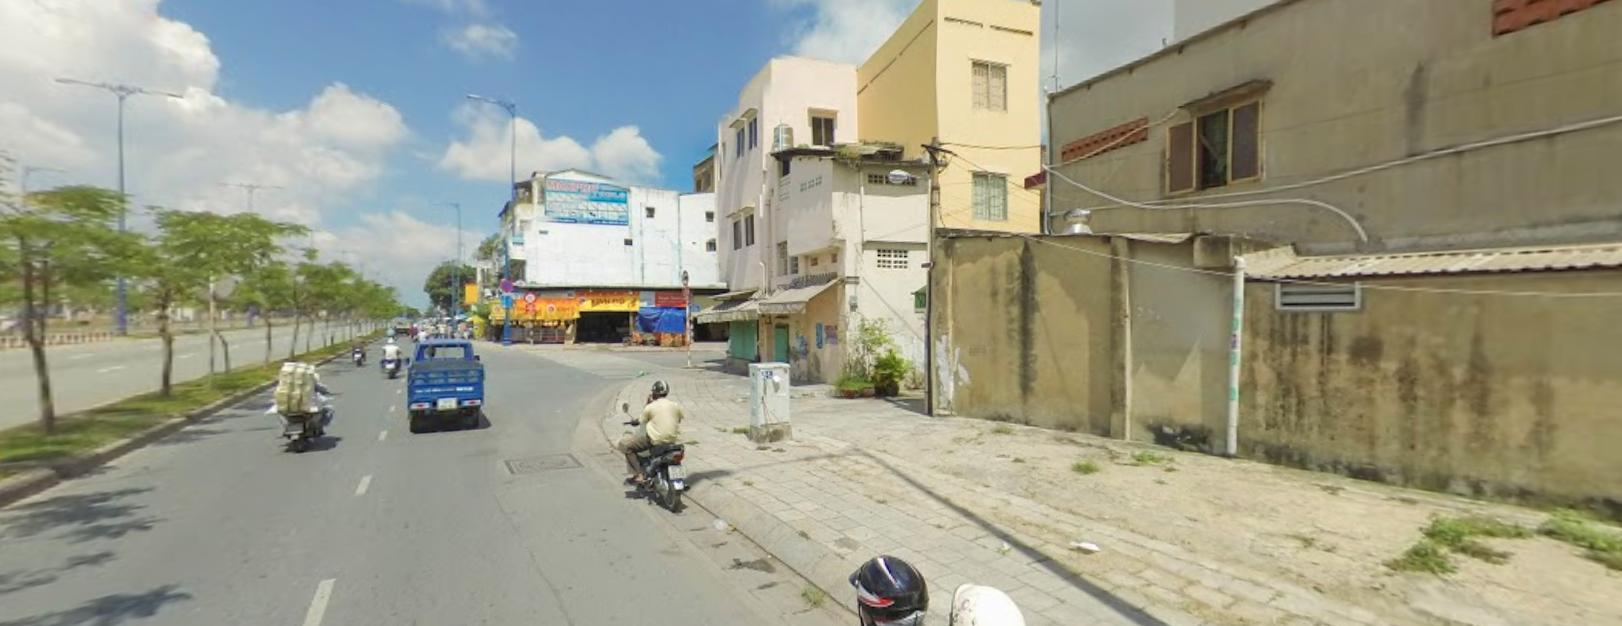Cam con lai: (523, 289, 535, 301), (681, 268, 688, 284)
Cam dung va do: (500, 278, 513, 290)
